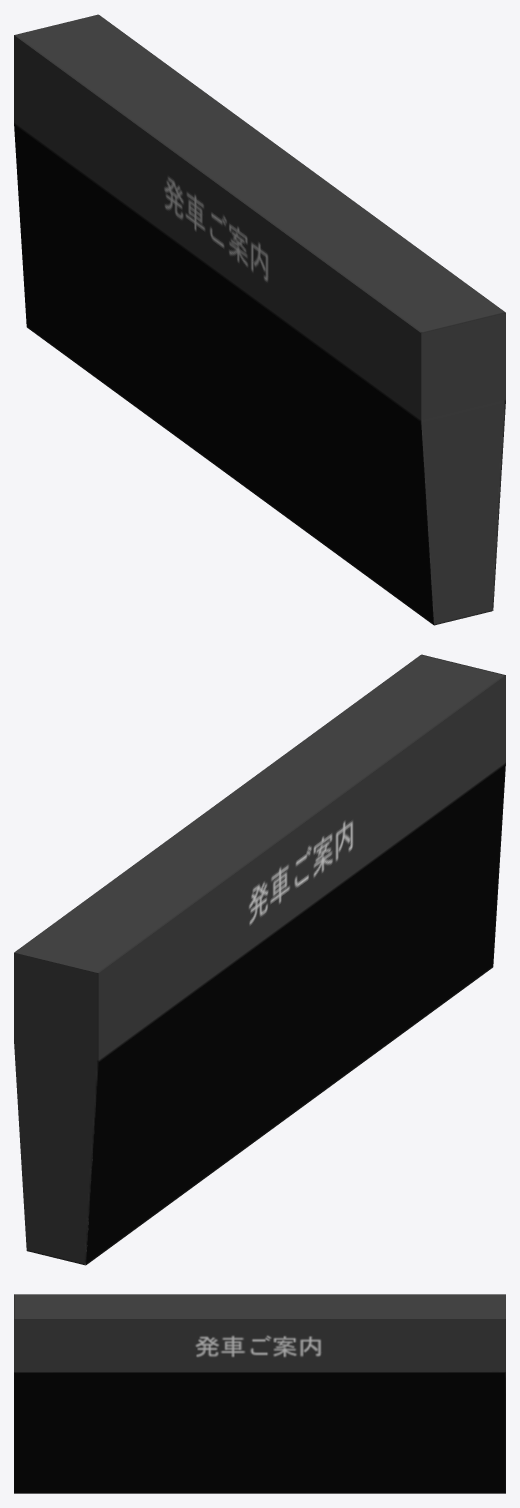
Rendered from departure_mark.obj.
3 views of the same model, one above another, from view 1: azimuth 30°, elevation 25°; view 2: azimuth 150°, elevation 25°; view 3: azimuth 270°, elevation 25° (orthographic). The views are drawn at different scales.
Parts seen in each view (by area): view 1: Cube; view 2: Cube; view 3: Cube.
Part boxes in pixels (box(x1,y1,x2,y2)): Cube: box(14, 14, 505, 625); Cube: box(14, 654, 505, 1265); Cube: box(14, 1294, 505, 1493).
Size of the model in its own units: 0.3 by 1 by 2.5.
